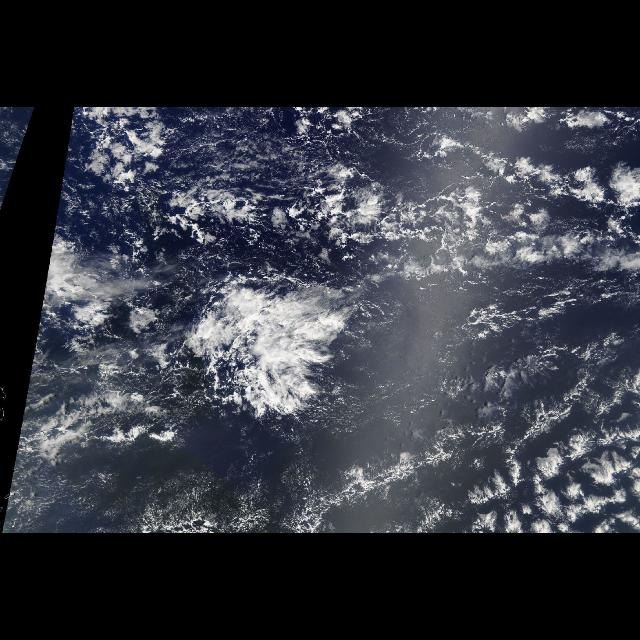Fish: (154, 178, 610, 274)
Flower: (461, 421, 639, 533)
